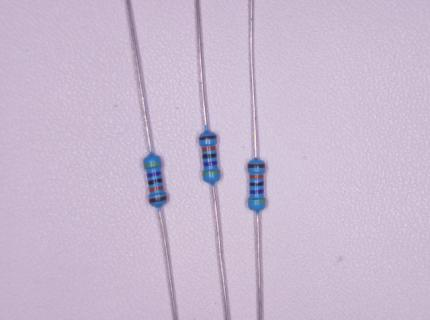Black band: (148, 178, 163, 186), (202, 153, 217, 159), (249, 182, 264, 186)
Brown band: (149, 195, 168, 203), (199, 135, 217, 141), (247, 164, 266, 168)
Orange band: (148, 186, 164, 192), (201, 146, 216, 152), (250, 175, 264, 179)
Violet band: (146, 171, 162, 178), (249, 189, 264, 194), (203, 161, 217, 166)
Yellow band: (144, 162, 162, 168), (202, 171, 221, 176), (248, 199, 266, 203)
